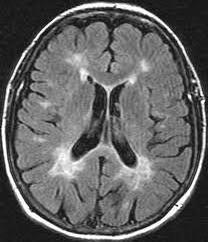Normal_Brain: (1, 3, 208, 242)
